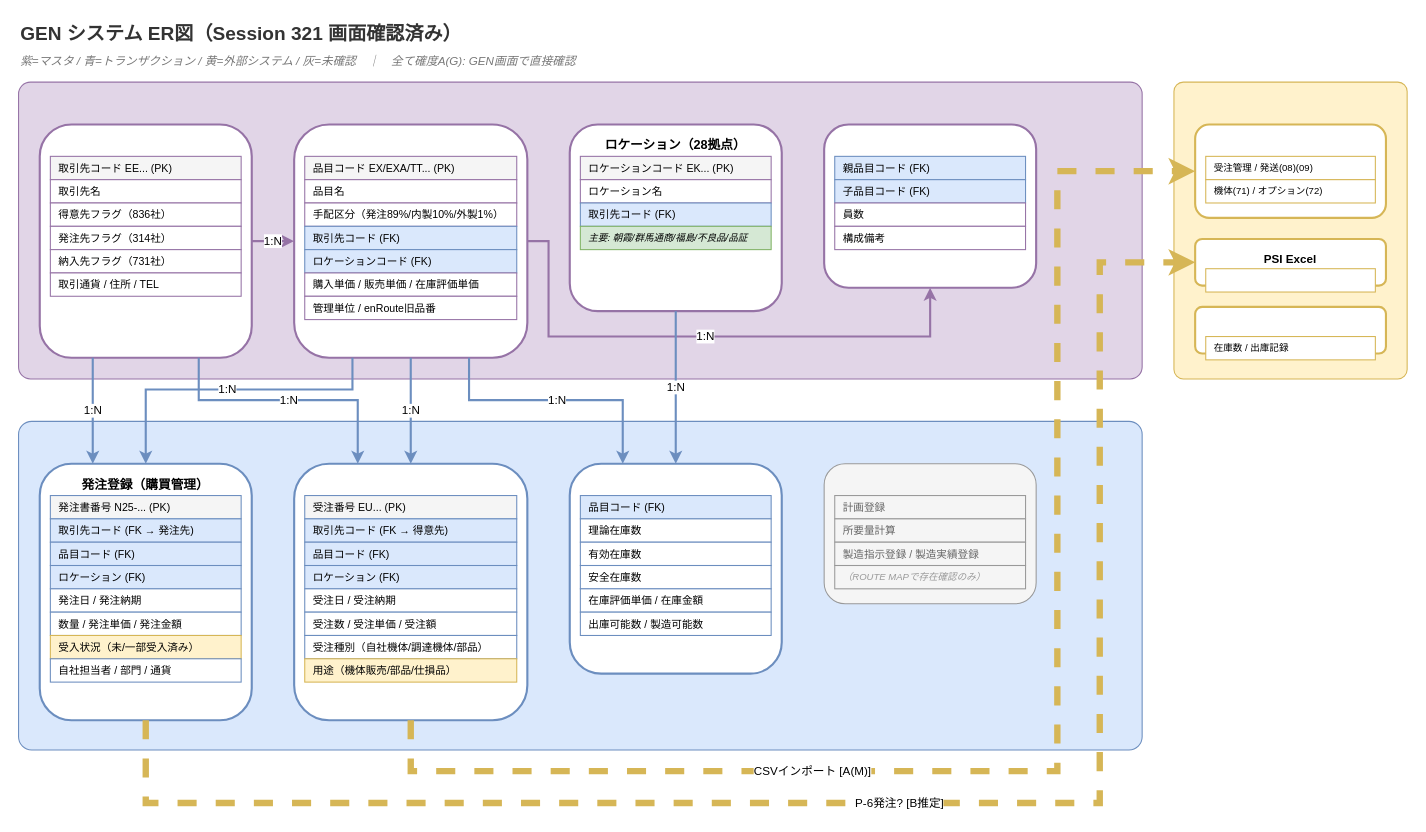
The diagram is 1426 pixels wide and 832 high, and some of its shapes have lost their labels. The box of each missing label's shape, as (x1, y1, x2, y2) in pixels:
kintone: (1194, 123, 1386, 218)
P-1〜P-6 / 予測: (1205, 268, 1375, 292)
トランザクションデータ [A(G)]: (17, 420, 1142, 750)
マスタデータ [A(G)]: (17, 81, 1142, 379)
取引先マスタ（1,172社）: (38, 123, 252, 358)
受注登録（販売管理）: (293, 462, 528, 721)
品目マスタ（4,078品目）: (293, 123, 528, 358)
在庫リスト（在庫管理）: (568, 462, 782, 674)
外部システム: (1173, 81, 1407, 379)
構成表BOM（5,952行）: (823, 123, 1037, 288)
生産管理 [D: 未確認]: (823, 463, 1036, 604)
群馬通商Excel: (1194, 305, 1386, 354)
